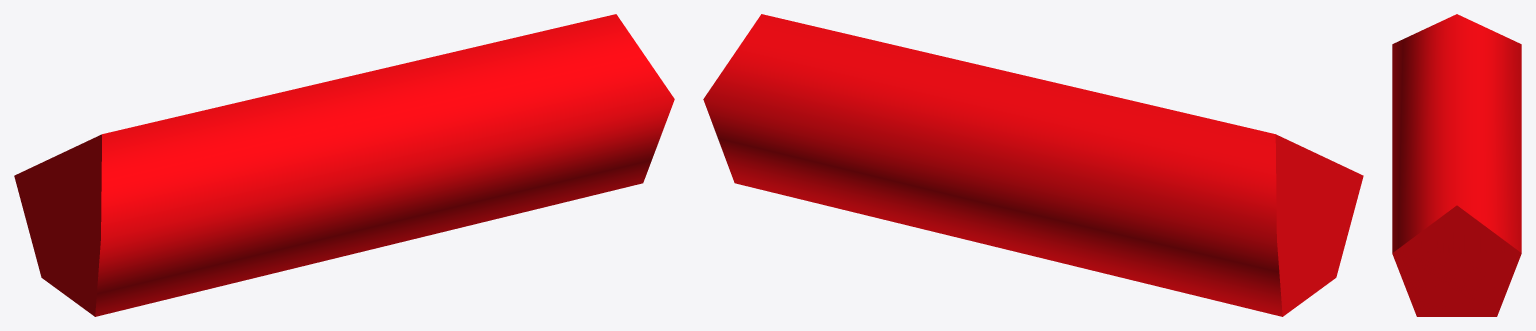
Rendered from Crayon_B.FBX.
3 renders of one model, left to right at view 1: azimuth 30°, elevation 25°; view 2: azimuth 150°, elevation 25°; view 3: azimuth 270°, elevation 25°, orthographic. The views are drawn at different scales.
Visible parts, largest first — view 1: Crayon_And_Chalk; view 2: Crayon_And_Chalk; view 3: Crayon_And_Chalk.
Part boxes in pixels (x1,y1,x2,y2): Crayon_And_Chalk: (14, 14, 674, 316); Crayon_And_Chalk: (703, 14, 1363, 316); Crayon_And_Chalk: (1392, 14, 1521, 316).
Size of the model in its own units: 29.04 by 7.49 by 7.61.
